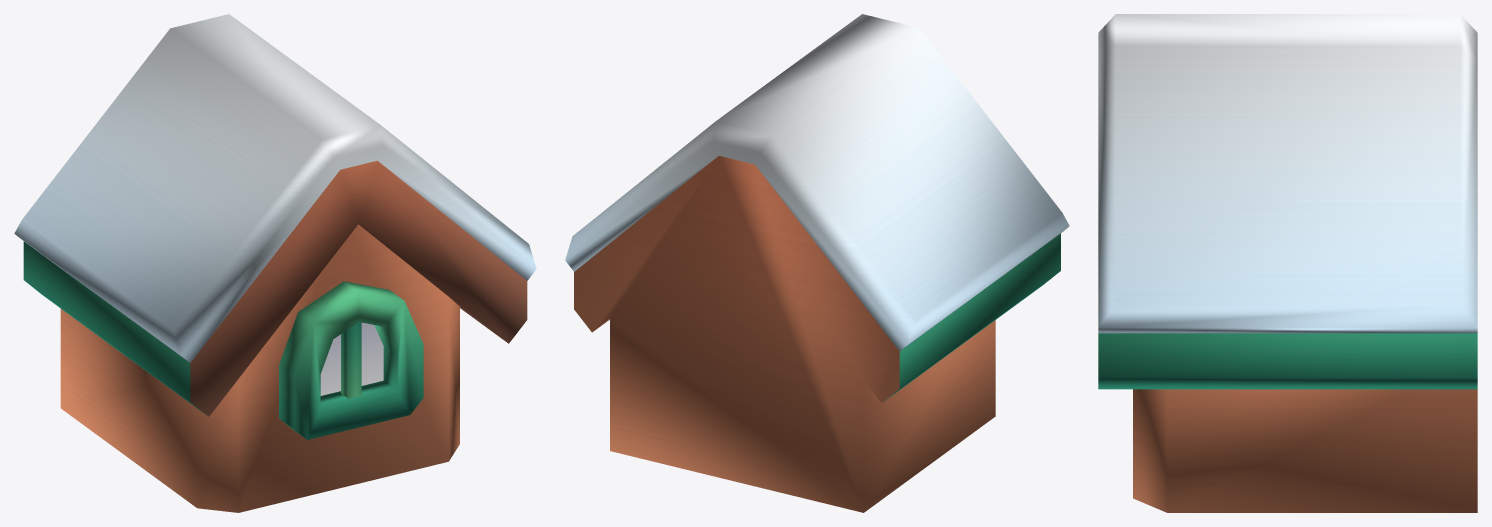
File: cabin-roof-snow-dormer_lev3.glb
3 views of the same model, side by side, from view 1: azimuth 30°, elevation 25°; view 2: azimuth 150°, elevation 25°; view 3: azimuth 270°, elevation 25° (orthographic). The views are drawn at different scales.
Visible parts, largest first — view 1: cabin-roof-snow-dormer_lev3; view 2: cabin-roof-snow-dormer_lev3; view 3: cabin-roof-snow-dormer_lev3.
Boxes of the visible parts, x1=… form: cabin-roof-snow-dormer_lev3: x1=14, y1=14, x2=536, y2=512; cabin-roof-snow-dormer_lev3: x1=565, y1=14, x2=1069, y2=512; cabin-roof-snow-dormer_lev3: x1=1098, y1=14, x2=1477, y2=512.
Size of the model in its own units: 4.06 by 3.94 by 3.3.
1 material, 1 textured.
